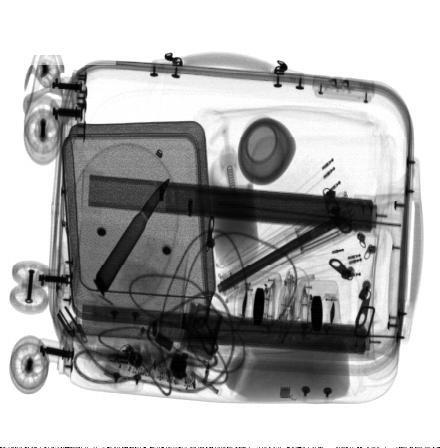Bullet: (93, 175, 171, 296)
